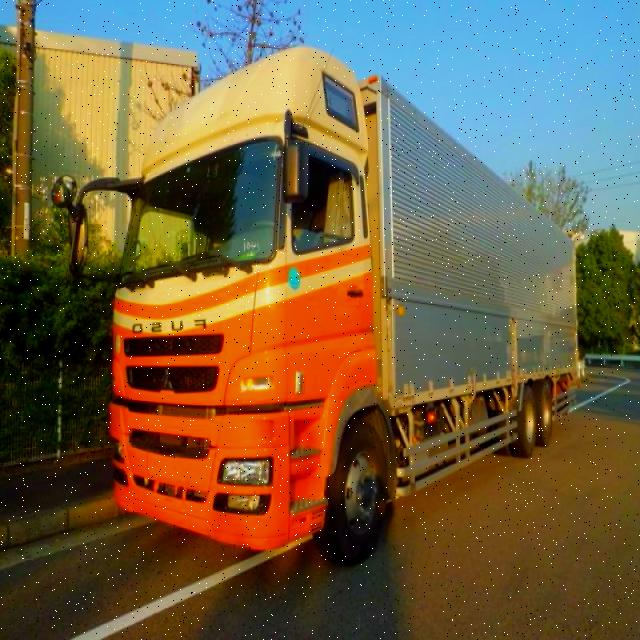truck: (68, 44, 574, 570)
